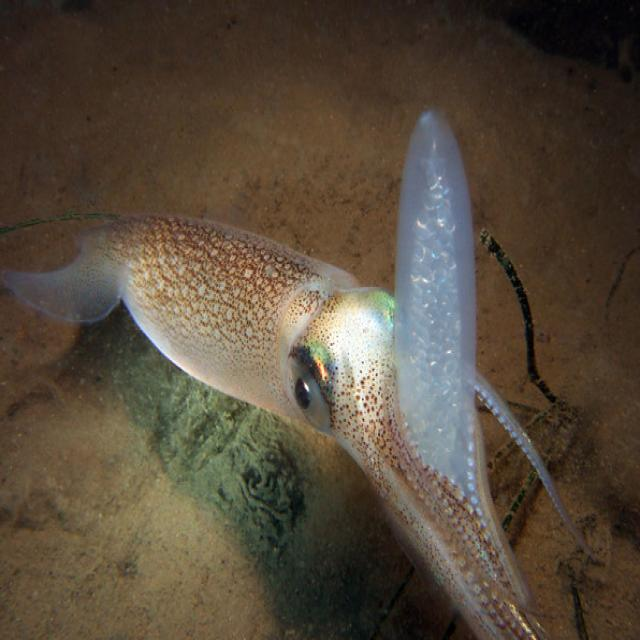SQUID: (5, 182, 572, 606)
